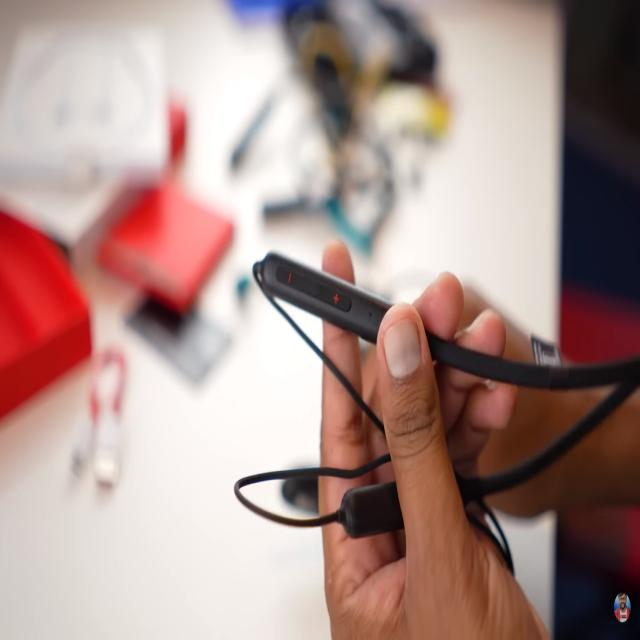Neckband: (232, 250, 640, 582)
